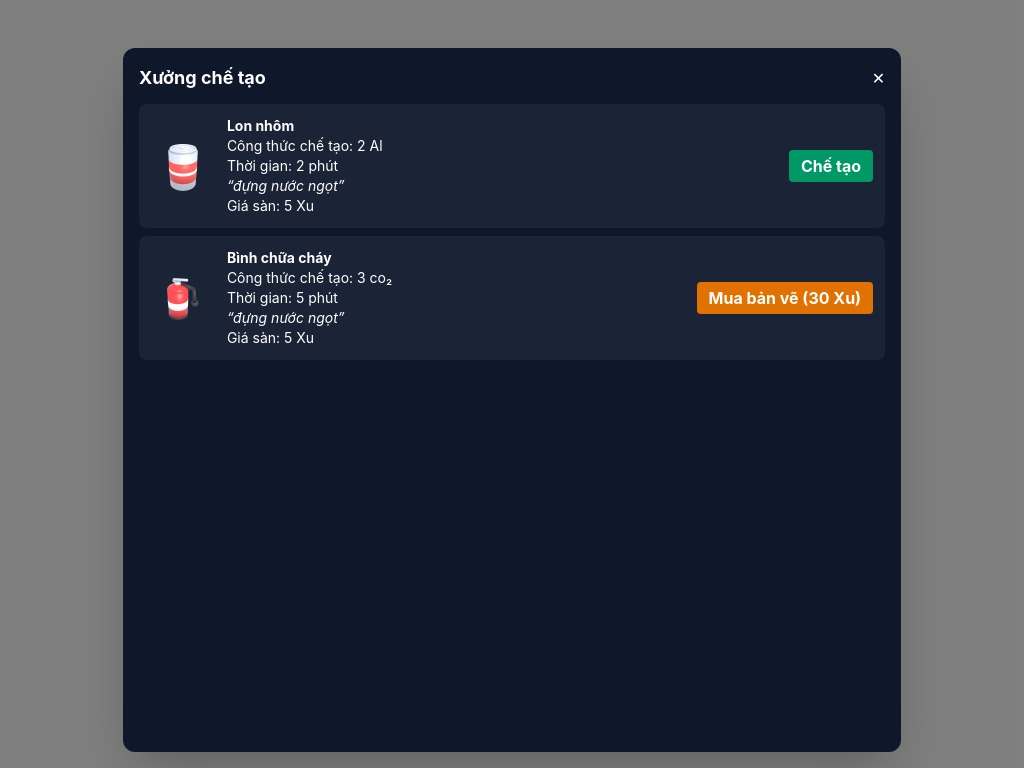
start refusal INTERNAL shows copy
Click the button "Chế tạo" at (831, 166), box left=789, top=150, right=873, bottom=182
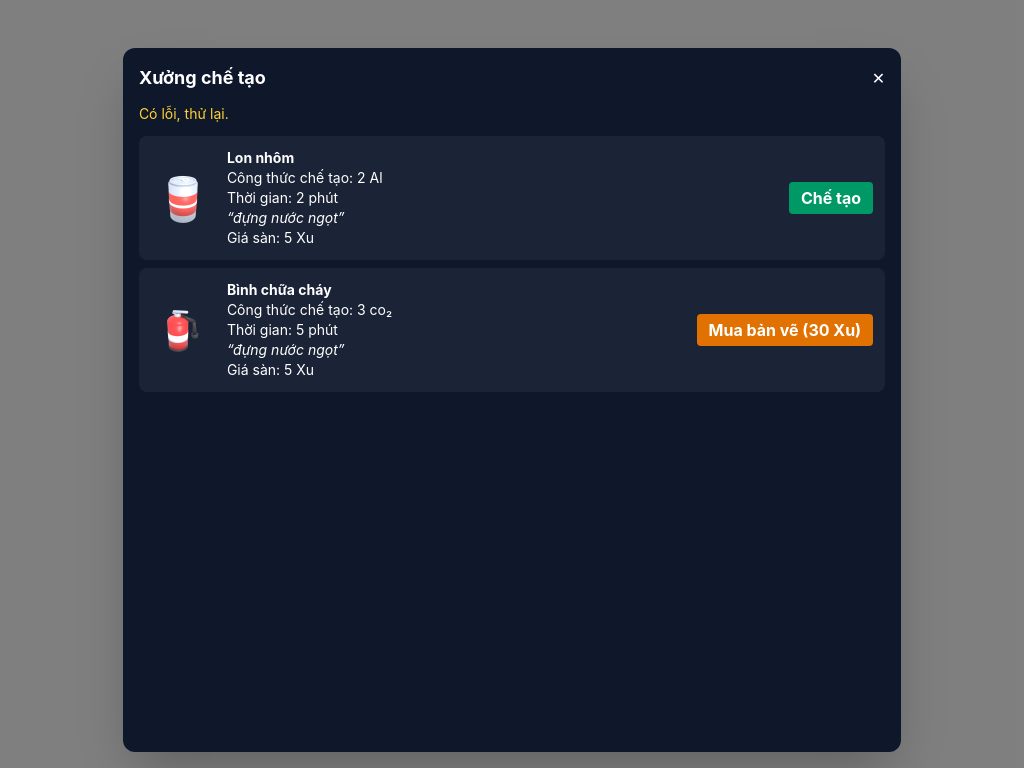
expect the message reads "Có lỗi, thử lại.": met, box left=139, top=105, right=229, bottom=122
